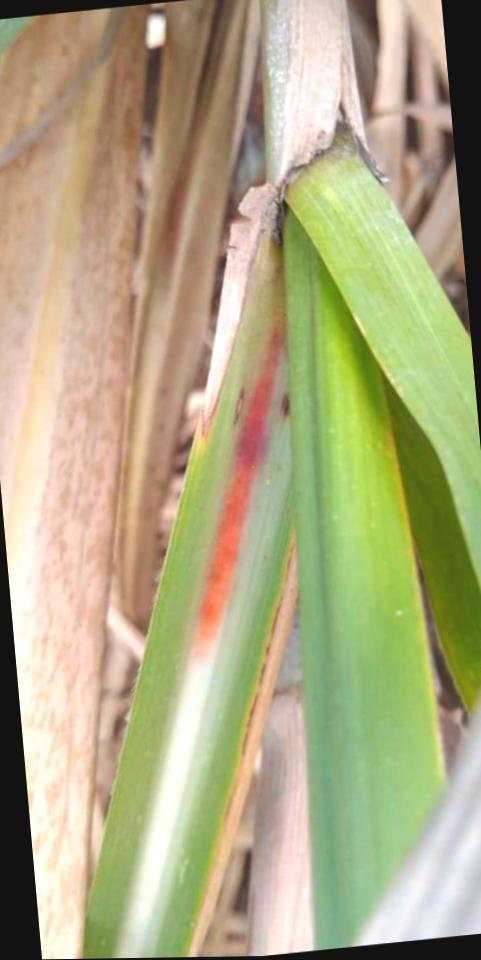RedRot: (187, 322, 286, 674)
